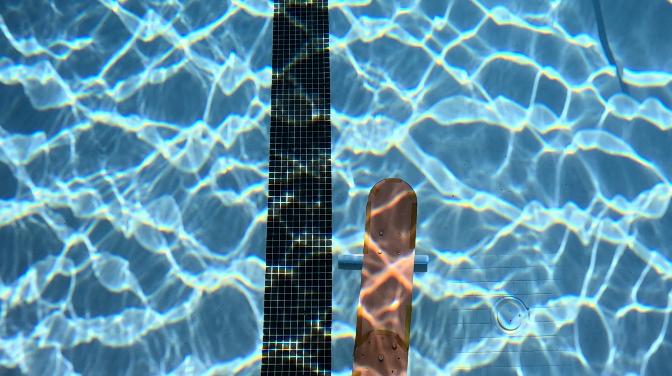pathmarker: (352, 177, 416, 375)
